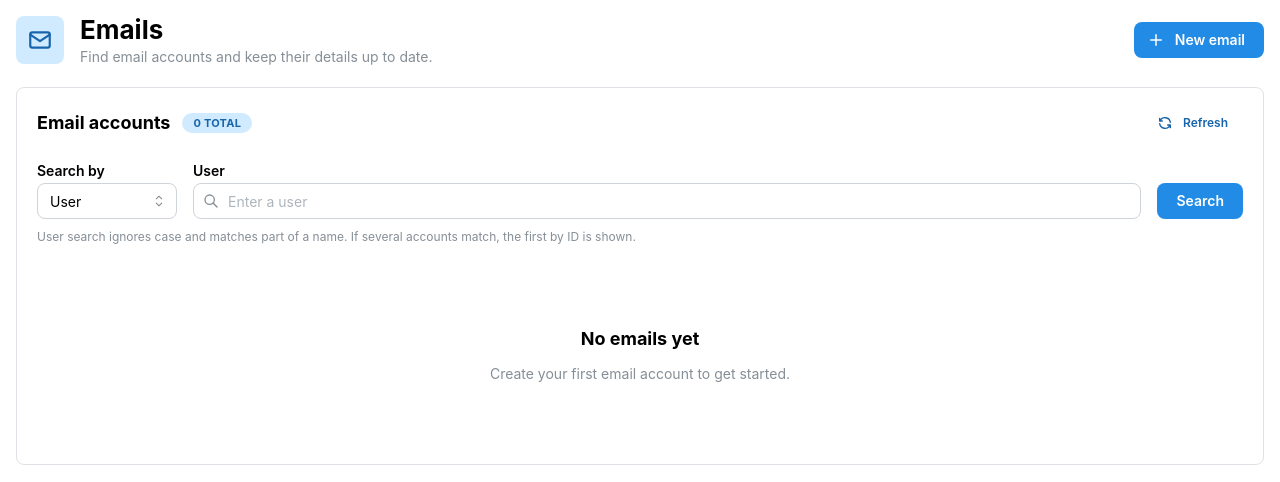
email screen with mocked API › shows not-found and server errors, then refreshes successfully
The image size is (1280, 482).
expect the heading "No emails yet" is shown: met, box [581,326,699,352]
Type "missing" into the field labelled "User". click: [667, 201]
box: [193,183,1142,219]
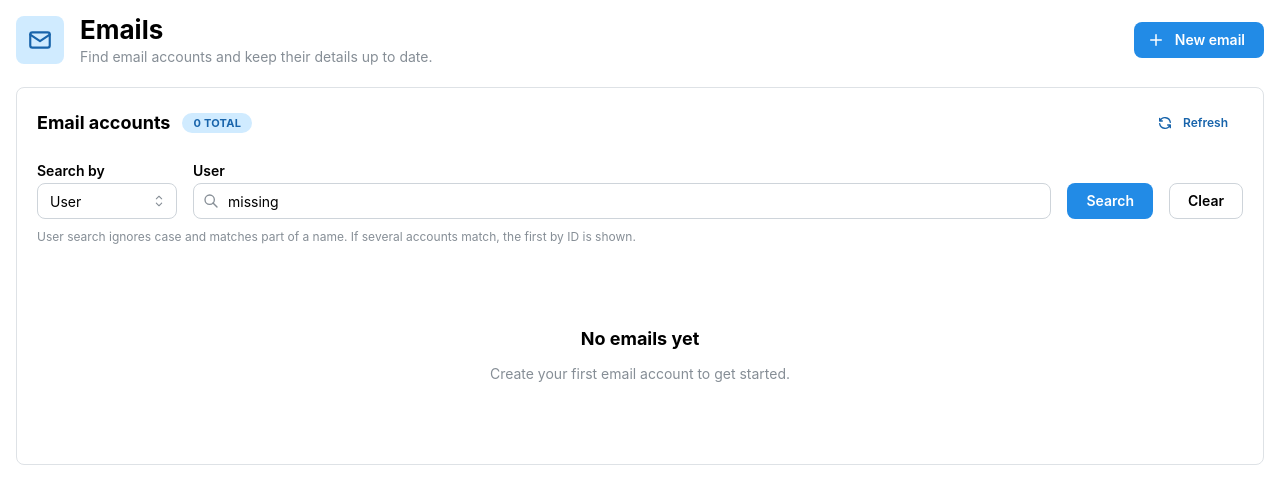
Click the button "Search". click: [1110, 201]
box: [1068,183,1153,219]
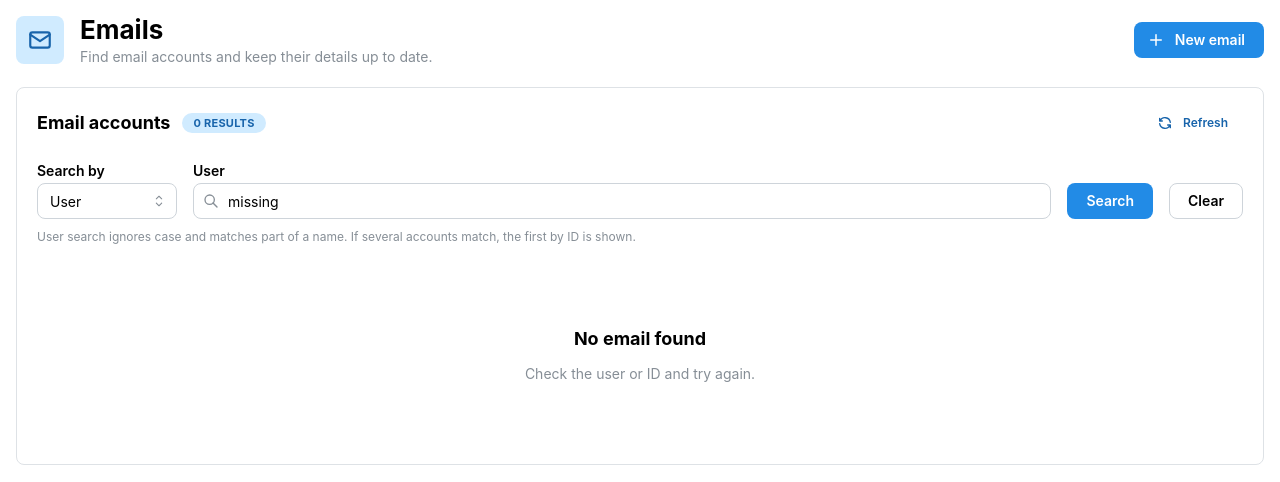
expect the heading "No email found" is shown: met, box [574,326,706,352]
Click the button "Refresh". click: [1195, 123]
box: [1147,108,1243,138]
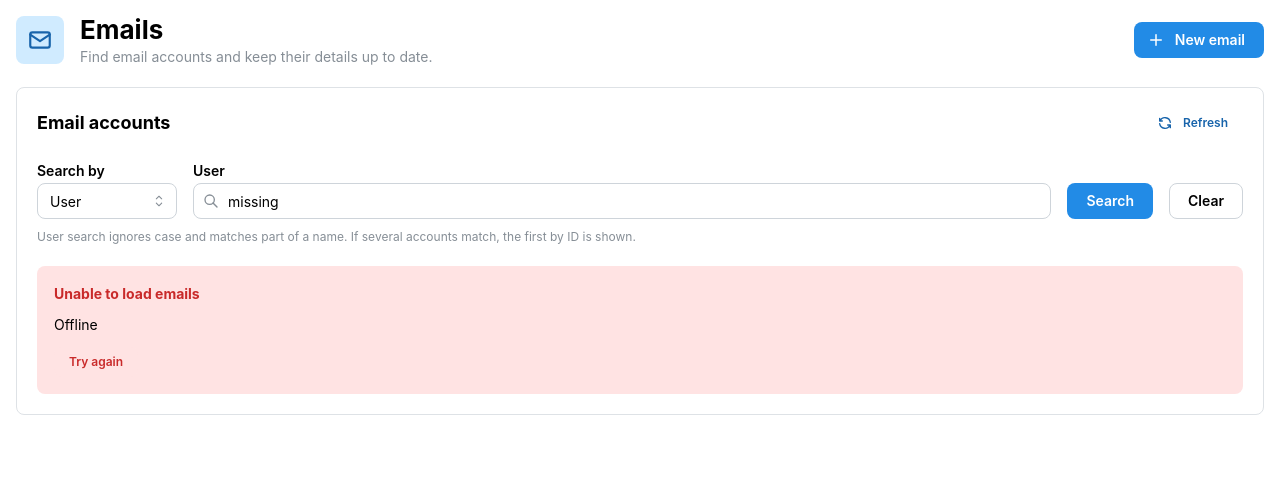
expect the text "Offline" is shown: met, box [54,316,98,333]
Click the button "Try again". click: [96, 362]
box: [54,347,138,377]
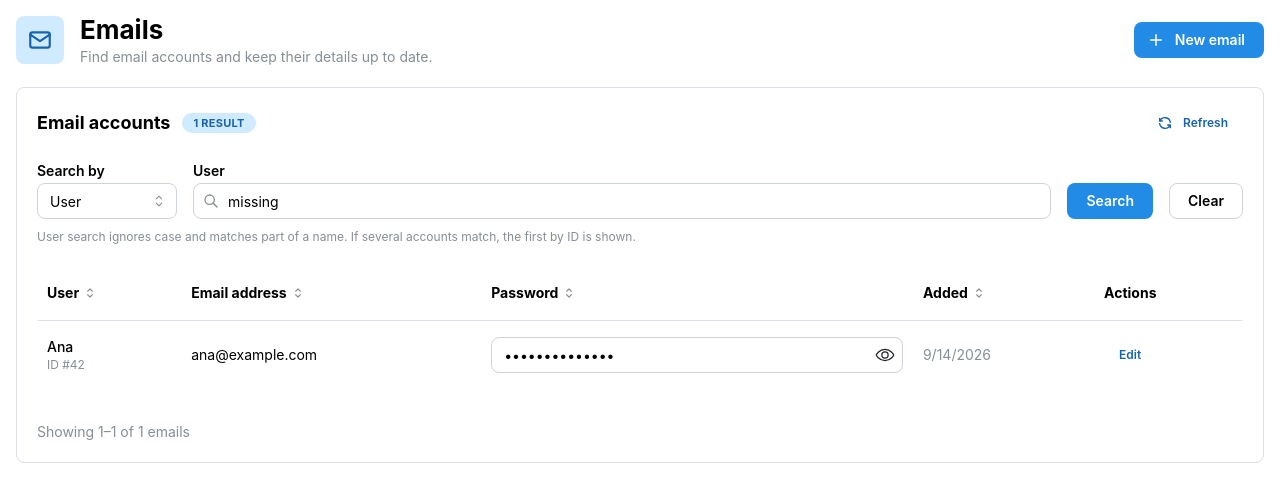
expect the text "ana@example.com" is shown: met, box [191,346,317,363]
expect the text "Offline" is gone: met
